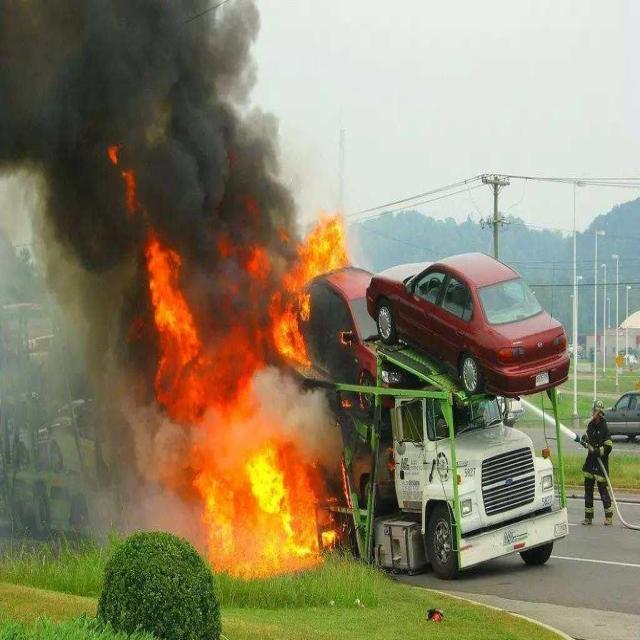Fire: (106, 144, 195, 410), (199, 418, 310, 574), (274, 221, 349, 355)
Smoke: (1, 0, 105, 269), (108, 0, 286, 141), (196, 139, 272, 313), (257, 361, 339, 448)
